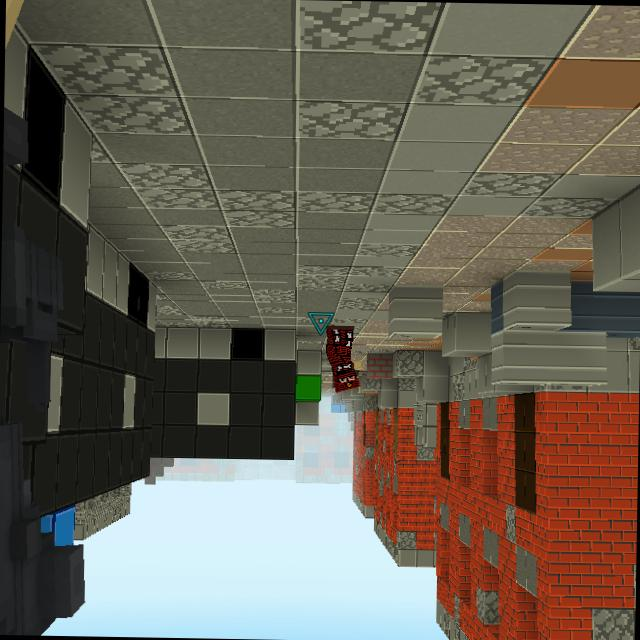enemy: (323, 325, 362, 394)
